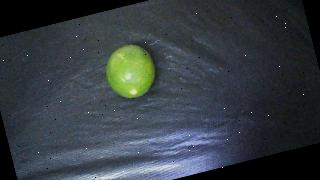LOCAL: (101, 40, 161, 103)
